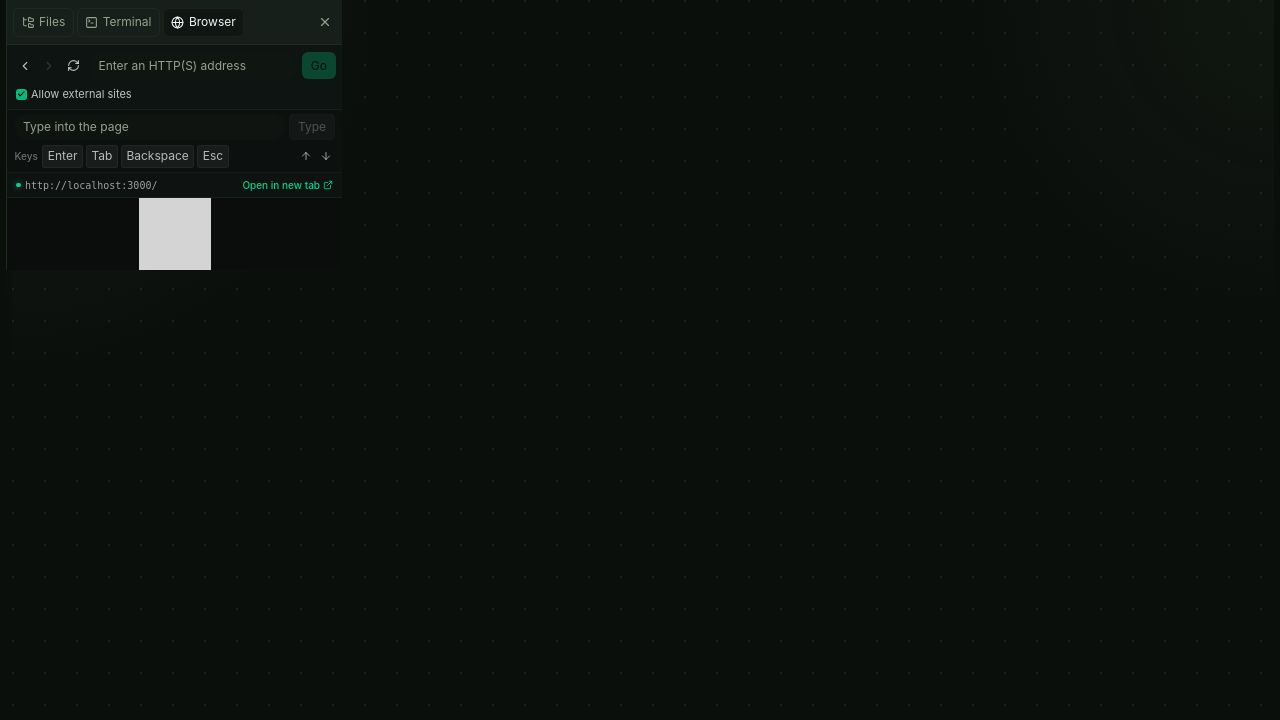
DeepSpaceSidePanel browser tab › refuses an address that is not http before the browser is asked
Step 1. Type "javascript:alert(1)" into the field named "Browser URL" → (193, 66), box [88,51,297,80]
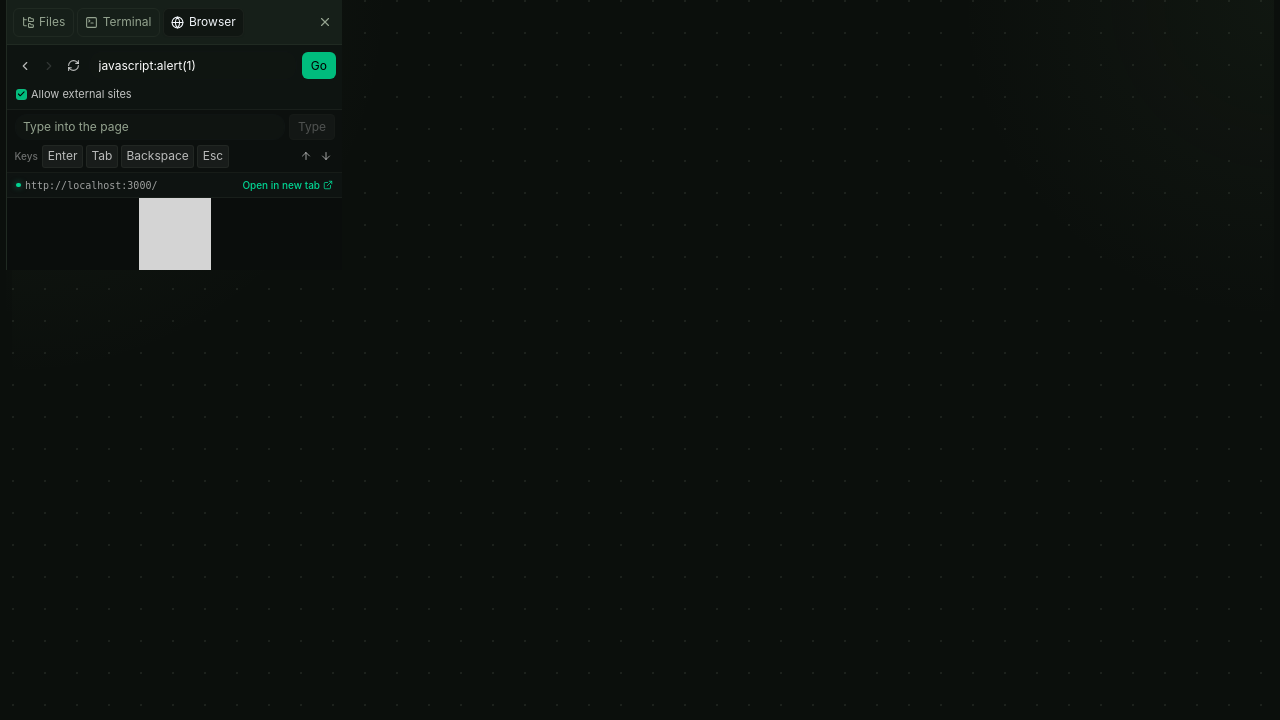
Step 2. Click the button "Go" → (319, 66), box [302,52,336,79]
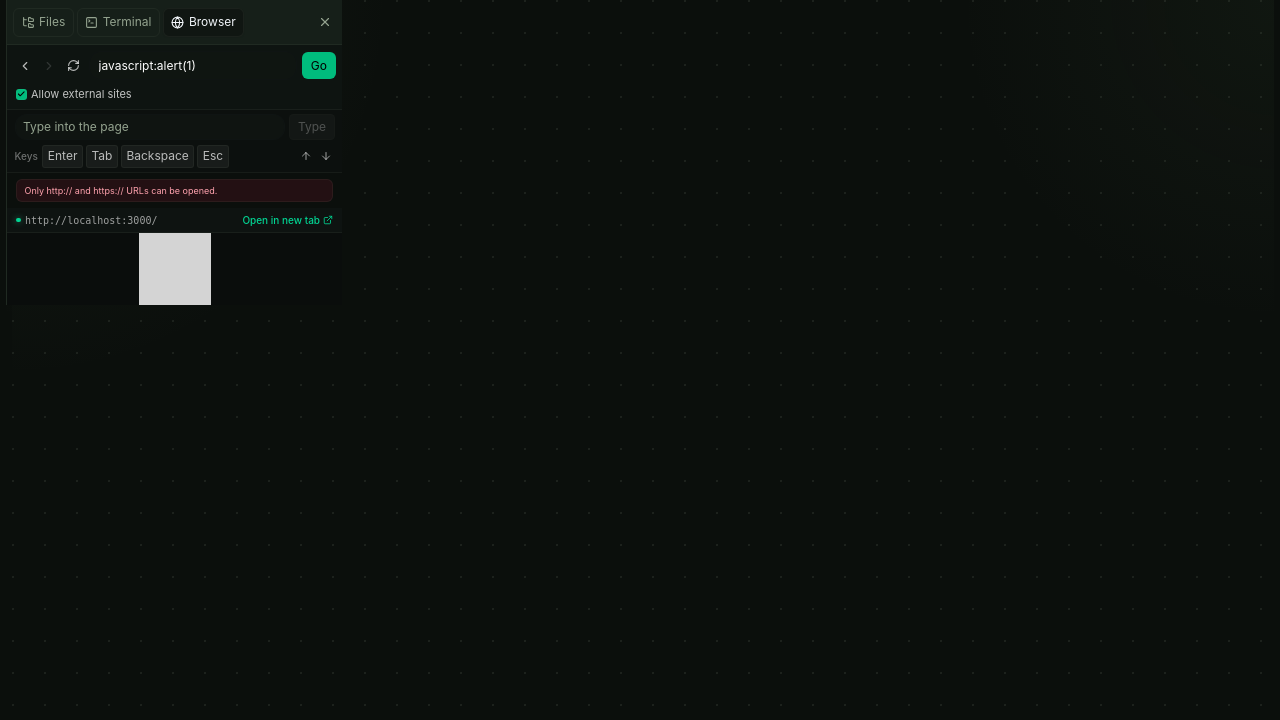
Result: the message reads "Only http:// and https:// URLs can be opened." at [24,184,218,196]
